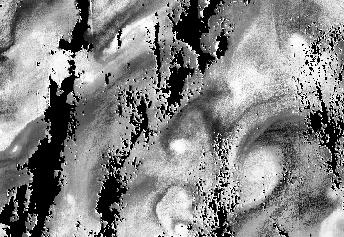CE: (229, 134, 297, 204)
